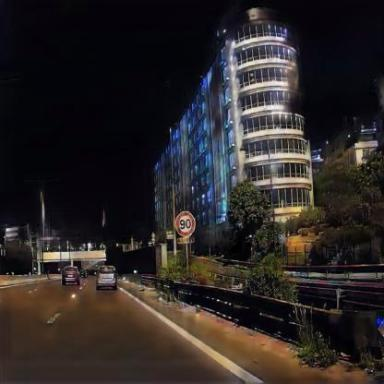Speed_limit_90: (175, 211, 196, 238)
